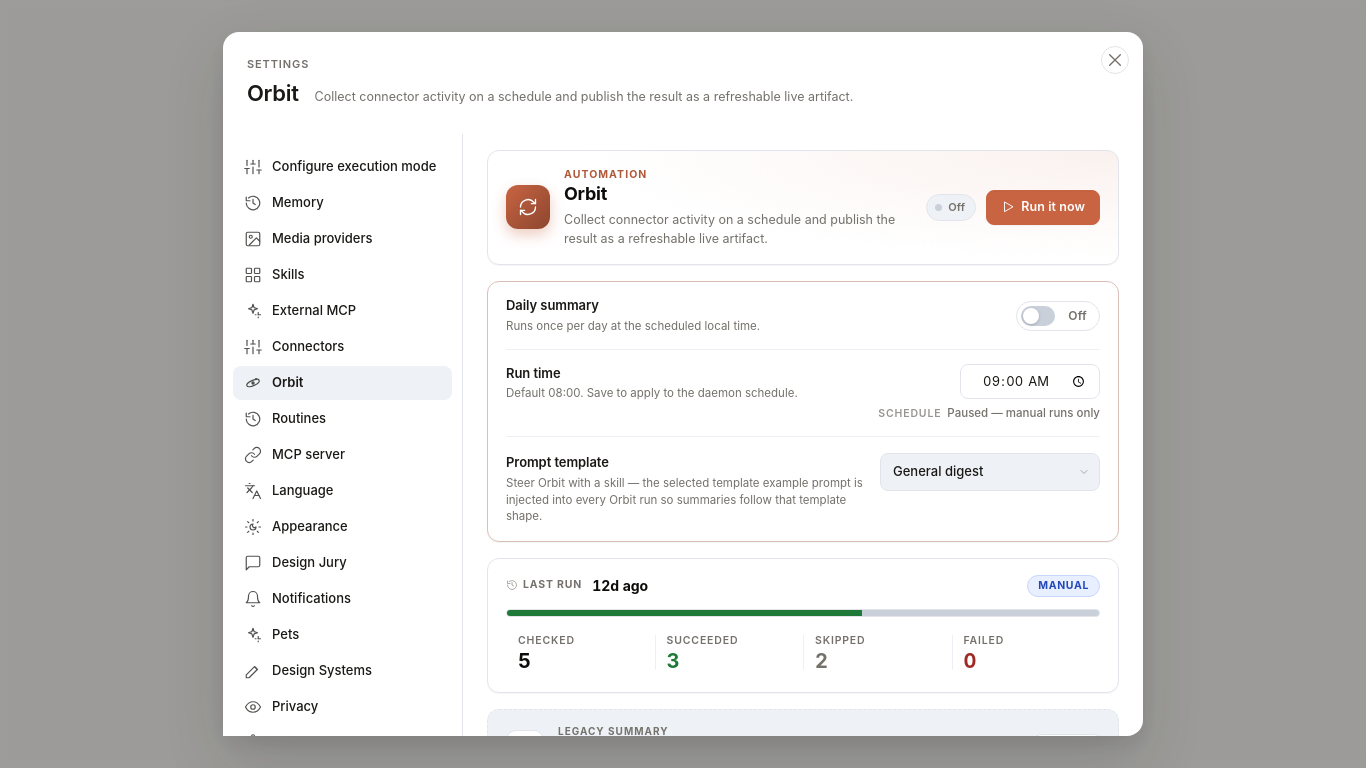
it: SettingsDialog Orbit connector gate refresh › updates the Last run panel when the selected Orbit template changes
Check: the text "5" is shown, box [518,649,531,673]
Step 1. Select "Editorial digest" in the dropdown named "Orbit prompt template" → (990, 472), box [880,453,1100,491]
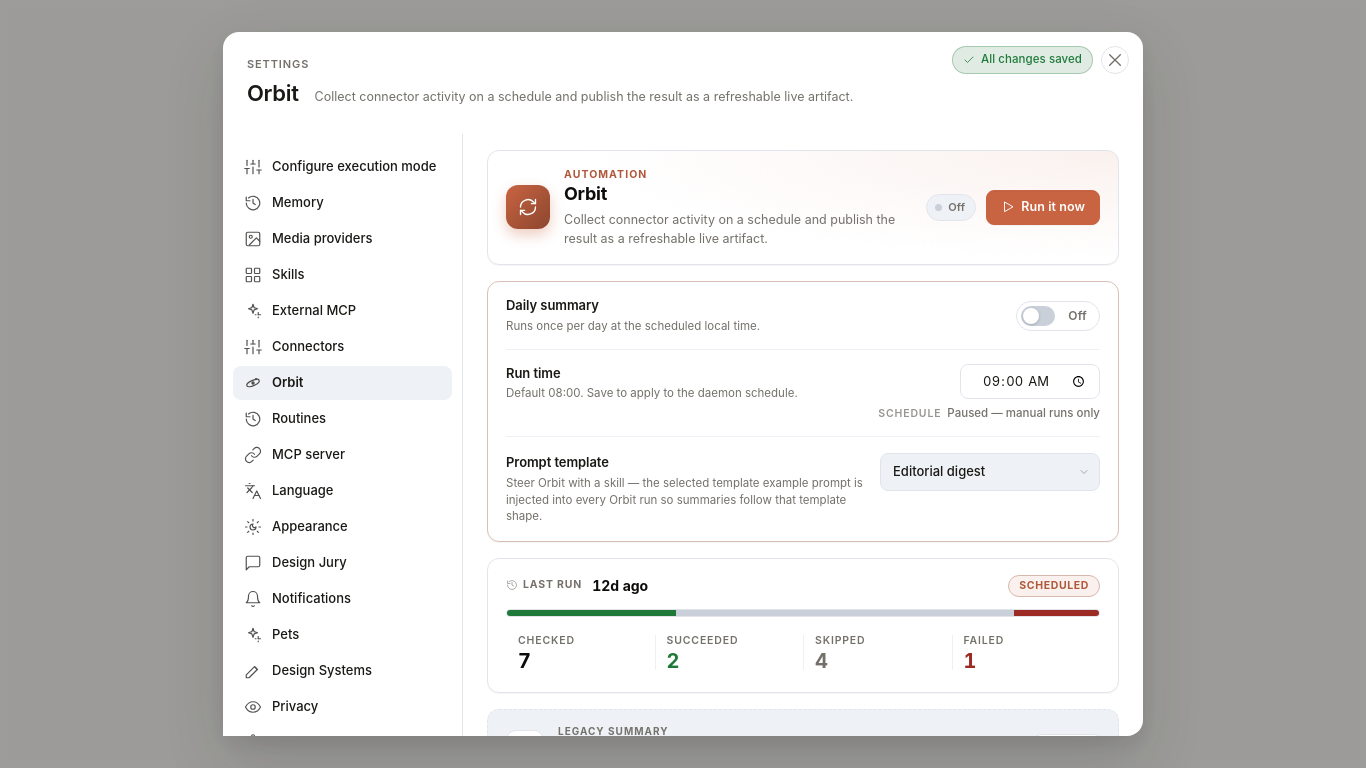
Check: the text "7" is shown, box [518,649,531,673]
